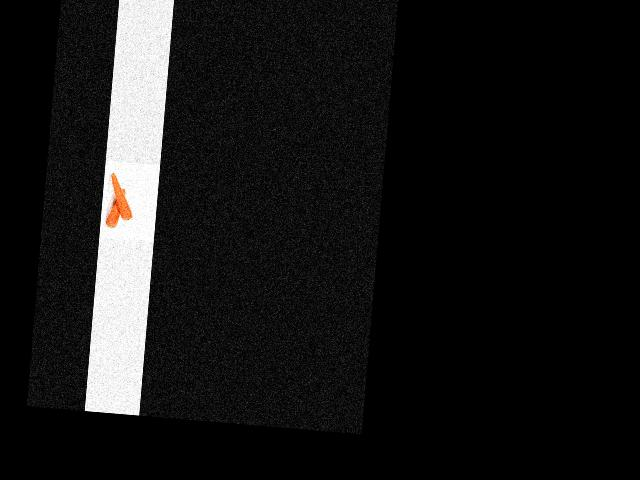carrot: (104, 183, 127, 231)
